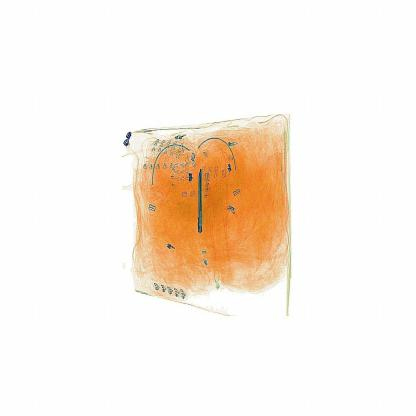pliers: (184, 157, 213, 243)
